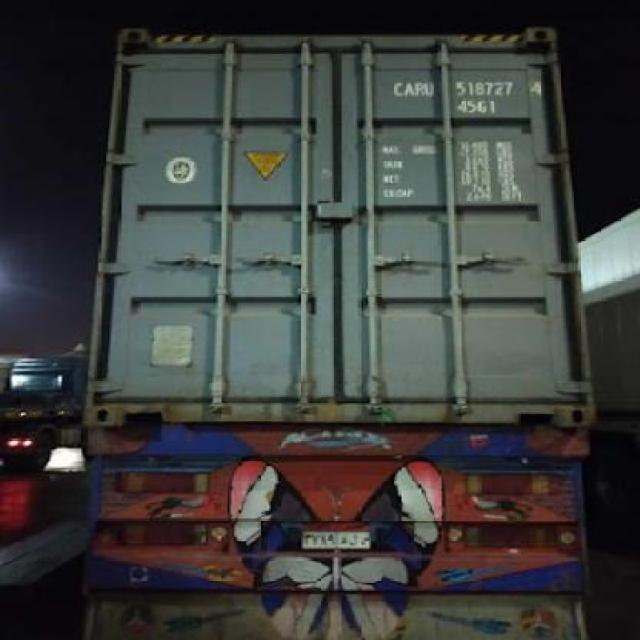ISO: (458, 100, 495, 116)
container_number: (391, 74, 548, 98)
